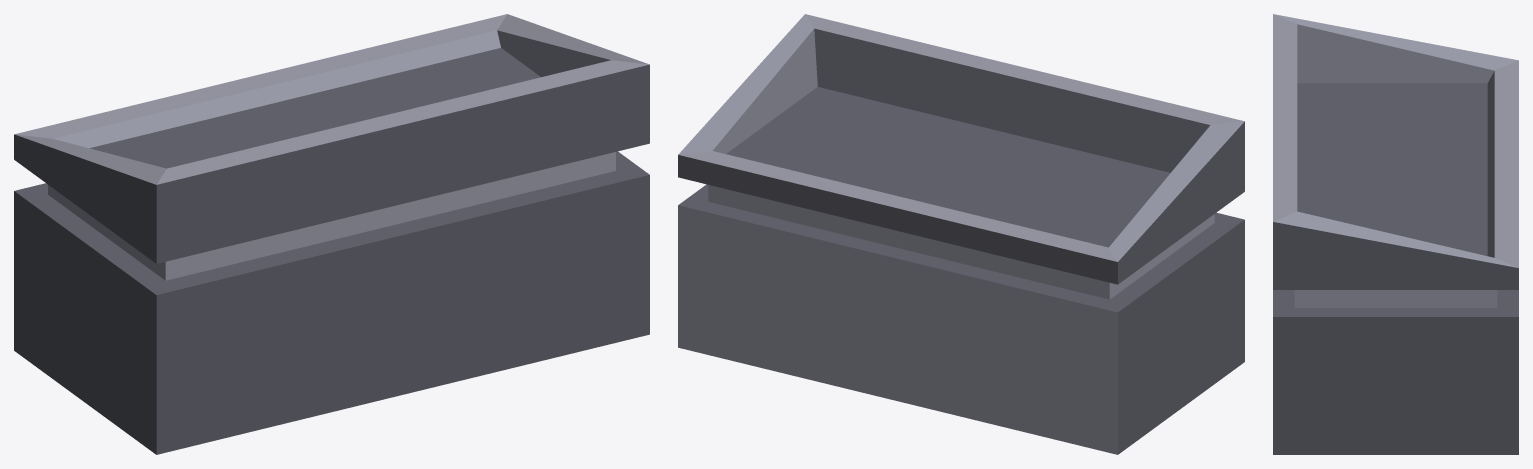
The model's file is Grill.fbx.
3 views of the same model, side by side, from view 1: azimuth 30°, elevation 25°; view 2: azimuth 150°, elevation 25°; view 3: azimuth 270°, elevation 25° (orthographic). The views are drawn at different scales.
Visible parts, largest first — view 1: Grill; view 2: Grill; view 3: Grill.
Part boxes in pixels (<box>): Grill: <box>14,14,649,454</box>; Grill: <box>678,14,1244,454</box>; Grill: <box>1273,14,1518,454</box>.
Bounding box in the file's own units: 144 × 75.33 × 72.
